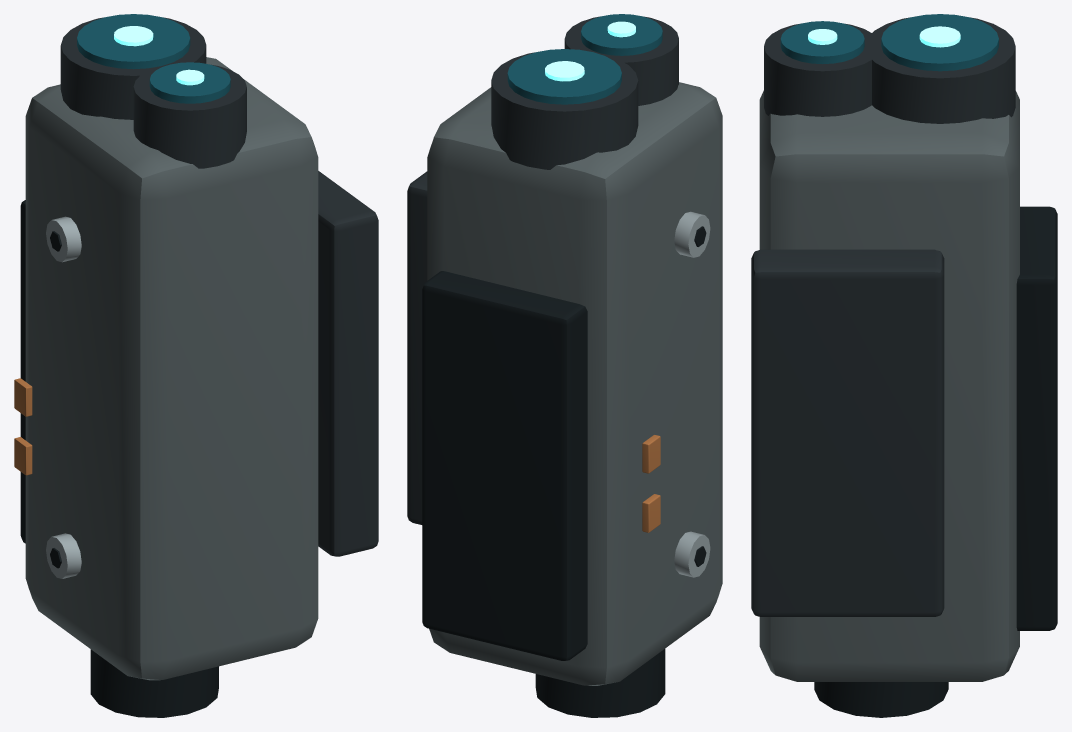
The model's file is laser-2.glb.
The picture shows the model from 3 angles, left to right: view 1: azimuth 30°, elevation 25°; view 2: azimuth 150°, elevation 25°; view 3: azimuth 270°, elevation 25°; orthographic projection. The views are drawn at different scales.
Visible parts, largest first — view 1: 01_Cerakote.012, 02_Graphite.016, 04_Elastomer.016, 06_OpticalGlass.001, 03_Titanium.016, 05_Copper.007, 07_Indicator.002; view 2: 01_Cerakote.012, 04_Elastomer.016, 02_Graphite.016, 06_OpticalGlass.001, 03_Titanium.016, 05_Copper.007, 07_Indicator.002; view 3: 02_Graphite.016, 01_Cerakote.012, 04_Elastomer.016, 06_OpticalGlass.001, 07_Indicator.002.
Part boxes in pixels (<box>): 01_Cerakote.012: <box>25,57,318,680</box>; 02_Graphite.016: <box>60,17,378,556</box>; 04_Elastomer.016: <box>20,200,218,717</box>; 06_OpticalGlass.001: <box>77,14,230,103</box>; 03_Titanium.016: <box>46,216,81,578</box>; 05_Copper.007: <box>14,378,32,475</box>; 07_Indicator.002: <box>114,26,204,85</box>; 01_Cerakote.012: <box>427,82,722,685</box>; 04_Elastomer.016: <box>422,226,706,717</box>; 02_Graphite.016: <box>407,16,678,524</box>; 06_OpticalGlass.001: <box>507,14,662,104</box>; 03_Titanium.016: <box>674,211,710,577</box>; 05_Copper.007: <box>642,435,660,532</box>; 07_Indicator.002: <box>545,21,635,81</box>; 02_Graphite.016: <box>751,17,1015,616</box>; 01_Cerakote.012: <box>759,90,1019,681</box>; 04_Elastomer.016: <box>814,206,1057,717</box>; 06_OpticalGlass.001: <box>780,14,998,71</box>; 07_Indicator.002: <box>808,26,960,47</box>.
Bounding box in the file's own units: 0.0377 × 0.0865 × 0.0365.
